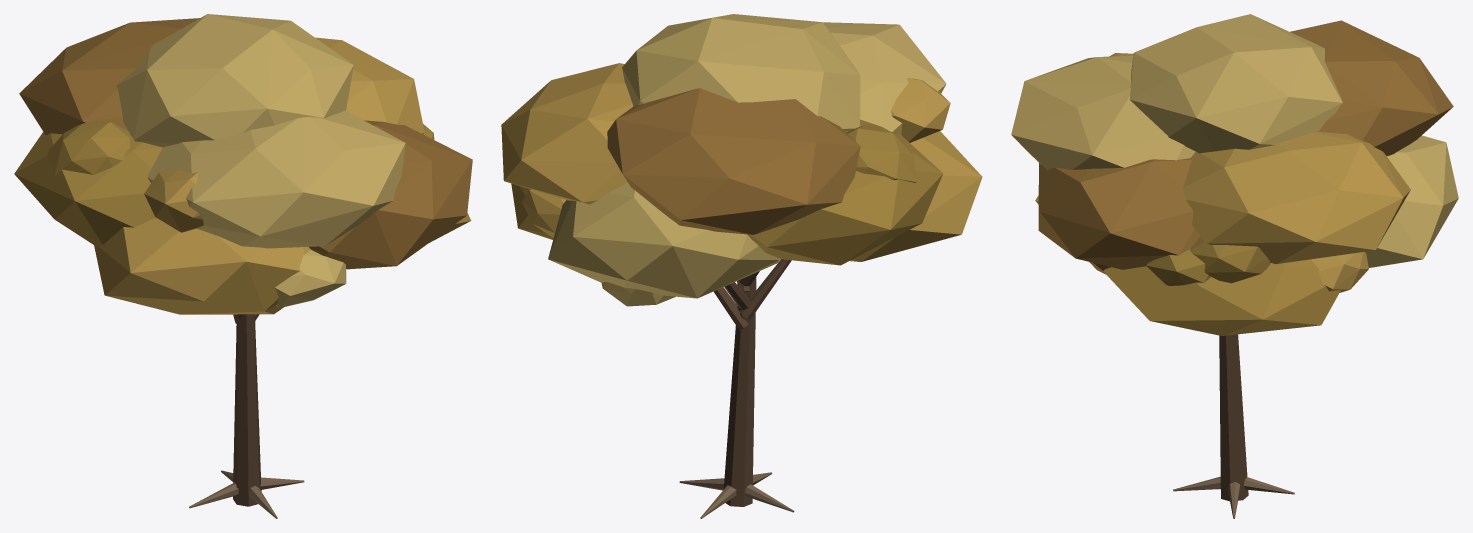
Rendered from gold.glb.
3 views of the same model, side by side, from view 1: azimuth 30°, elevation 25°; view 2: azimuth 150°, elevation 25°; view 3: azimuth 270°, elevation 25° (orthographic). The views are drawn at different scales.
Parts seen in each view (by area): view 1: gold; view 2: gold; view 3: gold.
Part boxes in pixels (<box>): gold: <box>14,14,472,518</box>; gold: <box>501,14,982,518</box>; gold: <box>1011,14,1458,518</box>.
Size of the model in its own units: 1.48 by 1.65 by 1.47.
